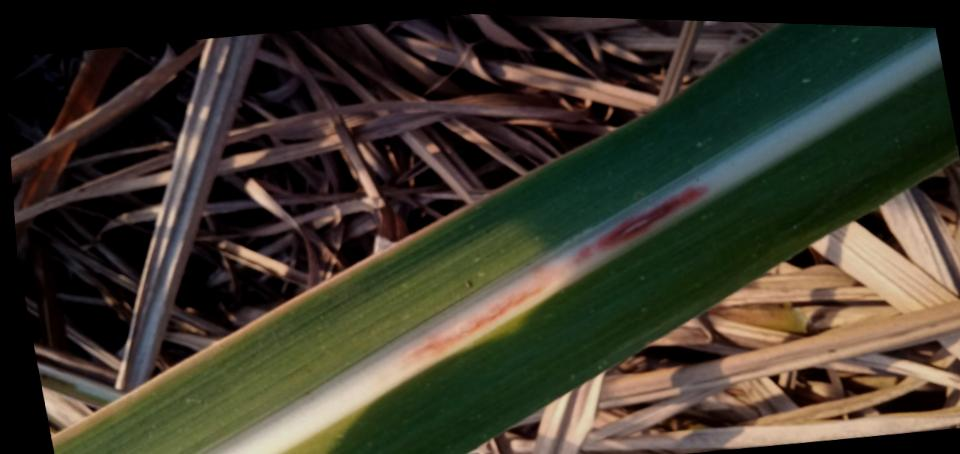RedRot: (408, 180, 715, 360)
